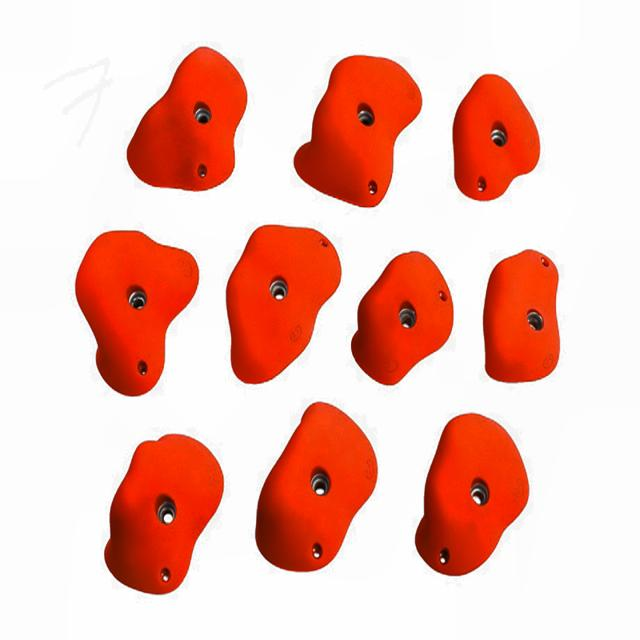Hold: (248, 401, 380, 573), (74, 230, 202, 396), (100, 431, 226, 596), (414, 411, 531, 580), (222, 224, 344, 384), (300, 56, 423, 208), (130, 40, 246, 189), (353, 252, 454, 386), (453, 69, 542, 201), (485, 245, 564, 382)
